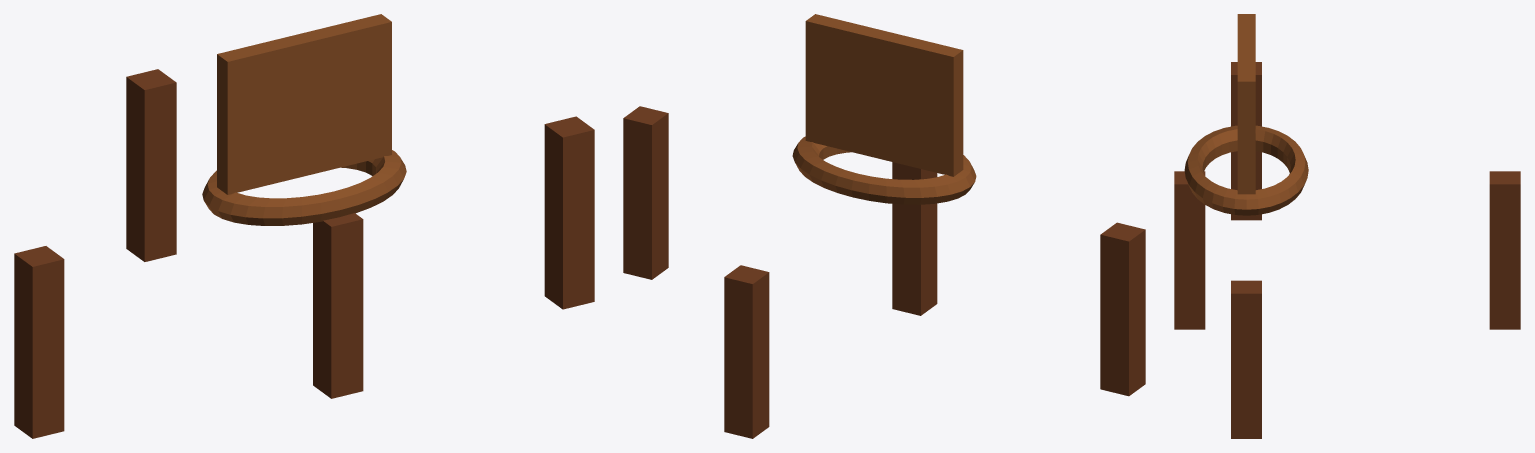
File: chair.glb
The picture shows the model from 3 angles, left to right: view 1: azimuth 30°, elevation 25°; view 2: azimuth 150°, elevation 25°; view 3: azimuth 270°, elevation 25°; orthographic projection. The views are drawn at different scales.
Parts seen in each view (by area): view 1: back, backLeg, rightLeg, leftLeg, frontLeg, seat; view 2: back, backLeg, leftLeg, rightLeg, frontLeg, seat; view 3: seat, backLeg, rightLeg, frontLeg, back, leftLeg.
Part boxes in pixels (left/top/right/bottom): back: left=217, top=14, right=391, bottom=194; backLeg: left=126, top=69, right=176, bottom=261; rightLeg: left=544, top=116, right=594, bottom=309; leftLeg: left=14, top=246, right=64, bottom=438; frontLeg: left=313, top=213, right=363, bottom=398; seat: left=202, top=150, right=406, bottom=225; back: left=805, top=14, right=963, bottom=176; backLeg: left=724, top=265, right=769, bottom=438; leftLeg: left=1100, top=222, right=1145, bottom=396; rightLeg: left=623, top=106, right=668, bottom=279; frontLeg: left=892, top=162, right=937, bottom=315; seat: left=792, top=136, right=976, bottom=204; seat: left=1184, top=125, right=1308, bottom=215; backLeg: left=1489, top=171, right=1520, bottom=329; rightLeg: left=1231, top=280, right=1261, bottom=438; frontLeg: left=1174, top=171, right=1205, bottom=329; back: left=1237, top=14, right=1255, bottom=194; leftLeg: left=1231, top=62, right=1261, bottom=220.
Bounding box in the file's own units: 2.12 × 1.17 × 1.34.
